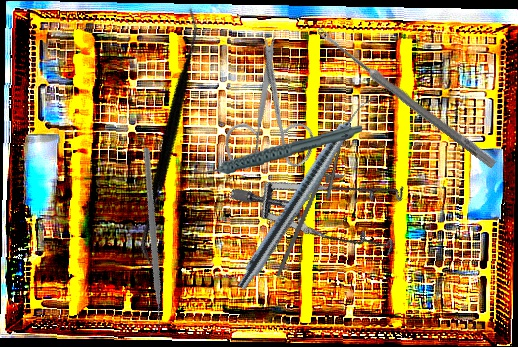Chopper: (57, 146, 239, 338)
Handpiece: (234, 88, 378, 295), (192, 123, 364, 176)
Iris Scissors: (182, 28, 348, 198)
Needle Holder: (275, 117, 360, 287)
Spatula Surgical: (69, 6, 274, 271)
Speculum: (228, 103, 429, 302)
Surgical Spoon: (314, 26, 498, 169)
